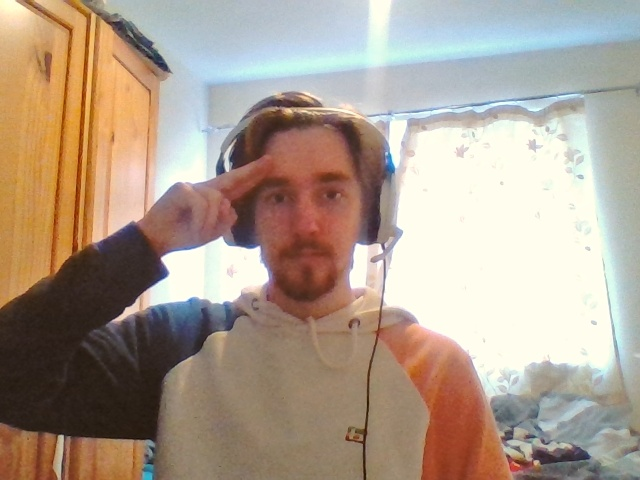name: (162, 155, 272, 245)
